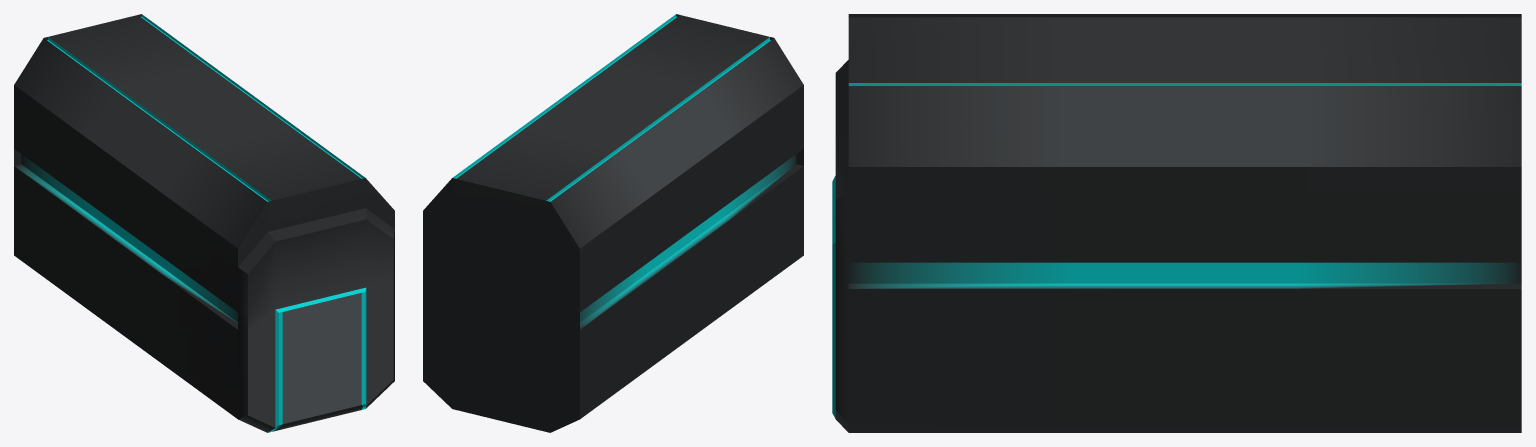
The model's file is long_crate2.fbx.
3 views of the same model, side by side, from view 1: azimuth 30°, elevation 25°; view 2: azimuth 150°, elevation 25°; view 3: azimuth 270°, elevation 25° (orthographic). The views are drawn at different scales.
Visible parts, largest first — view 1: lomg_crate; view 2: lomg_crate; view 3: lomg_crate.
Part boxes in pixels (x1,y1,x2,y2): lomg_crate: (14,14,394,432); lomg_crate: (423,14,803,432); lomg_crate: (832,14,1521,432).
Bounding box in the file's own units: 0.6598 × 0.9296 × 1.67.
